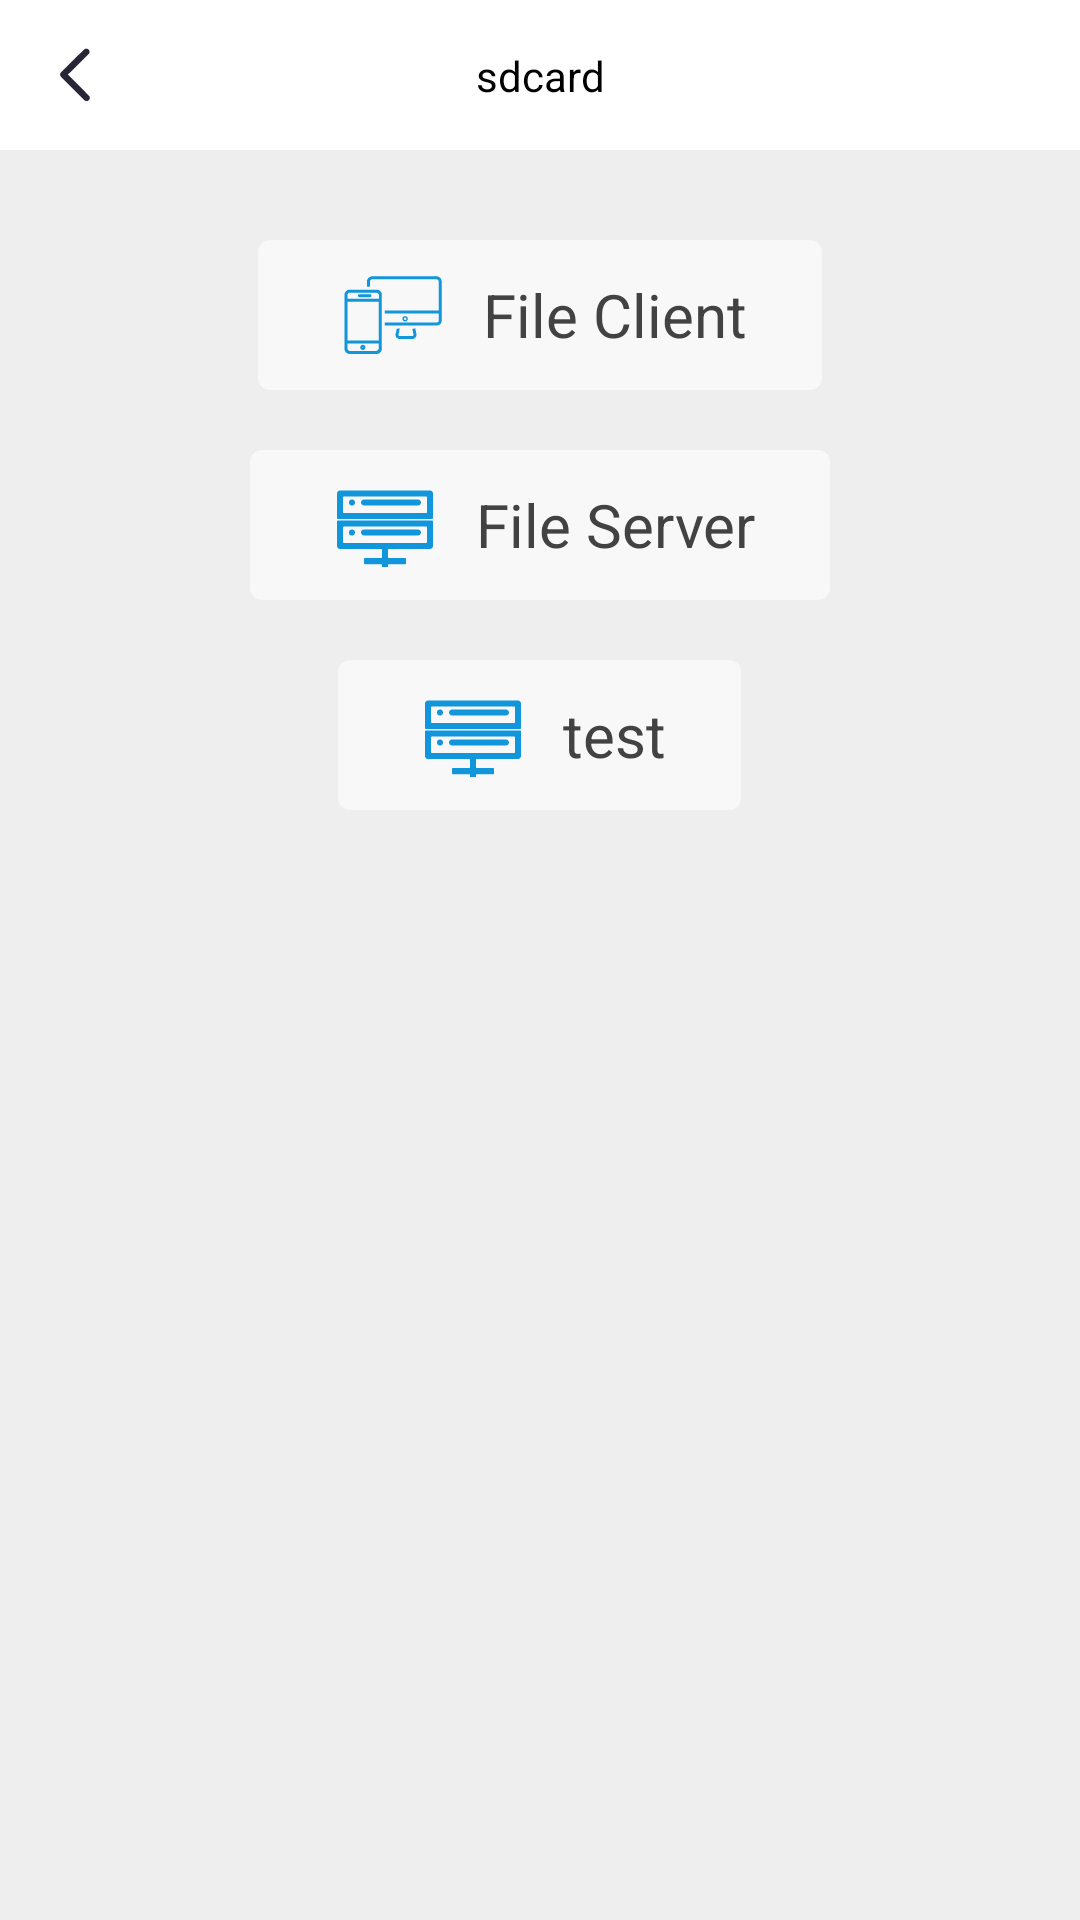

Screen size 1080 x 1920. Icon name, then its box in pixels as {"left": x1, "top": y1, "right": x2, "bottom": y2}:
left: {"left": 60, "top": 48, "right": 90, "bottom": 101}
